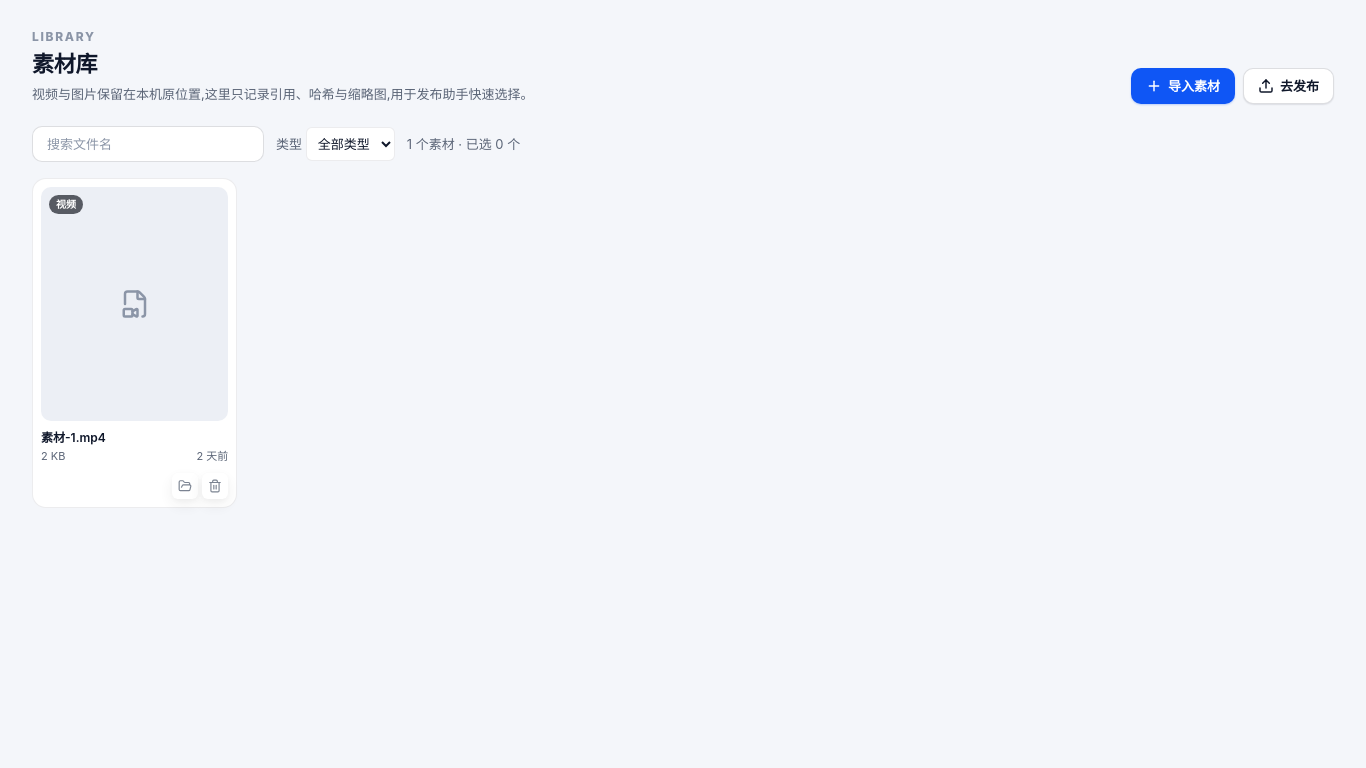
Test case: keeps existing assets when refreshing fails and recovers through the error action
Expected: the text "素材-1.mp4" is shown, [41,430,106,445]
Click the button "导入素材".
click(1183, 86)  # box [1131,68,1235,104]
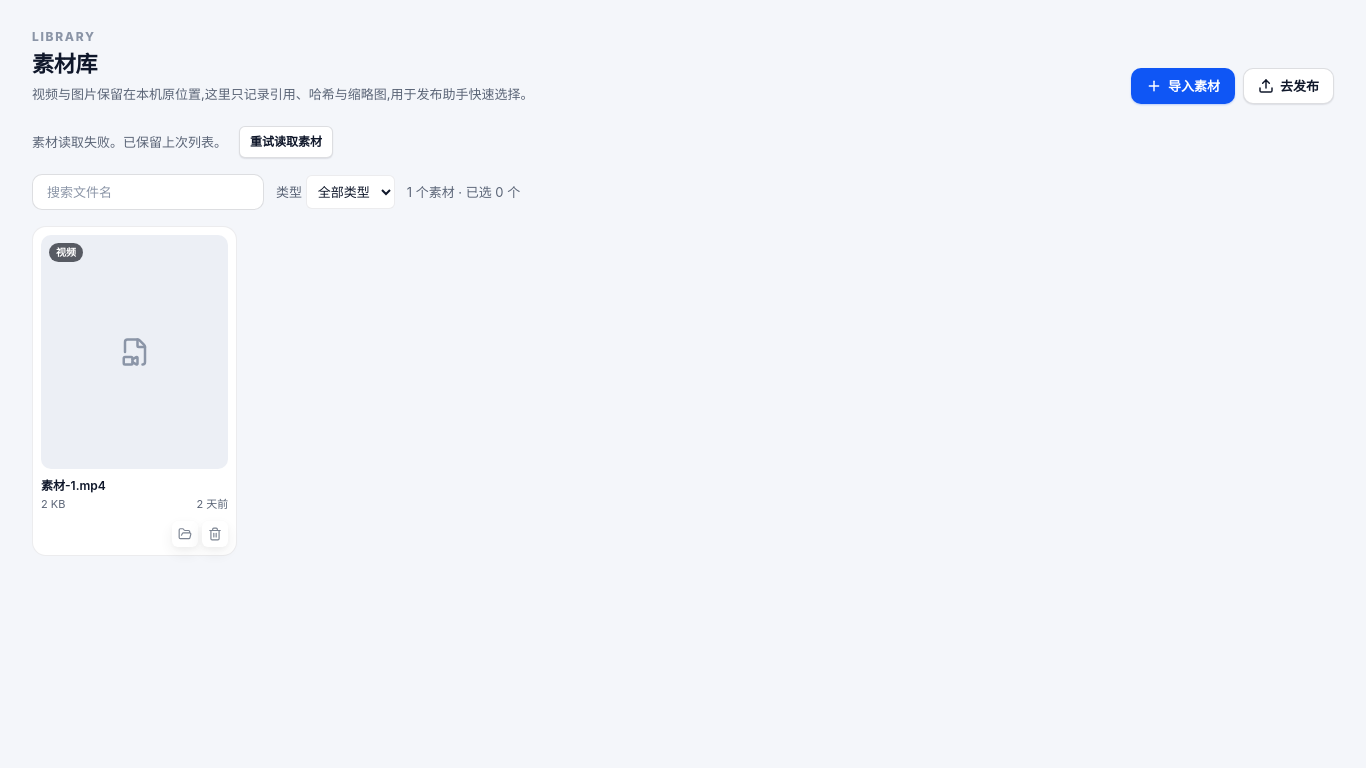
Expected: the text "素材-1.mp4" is shown, [41,478,106,493]
Expected: the message shows "已保留上次列表", [123,134,227,150]
Click the button "重试读取素材".
click(286, 142)  # box [239,126,333,158]
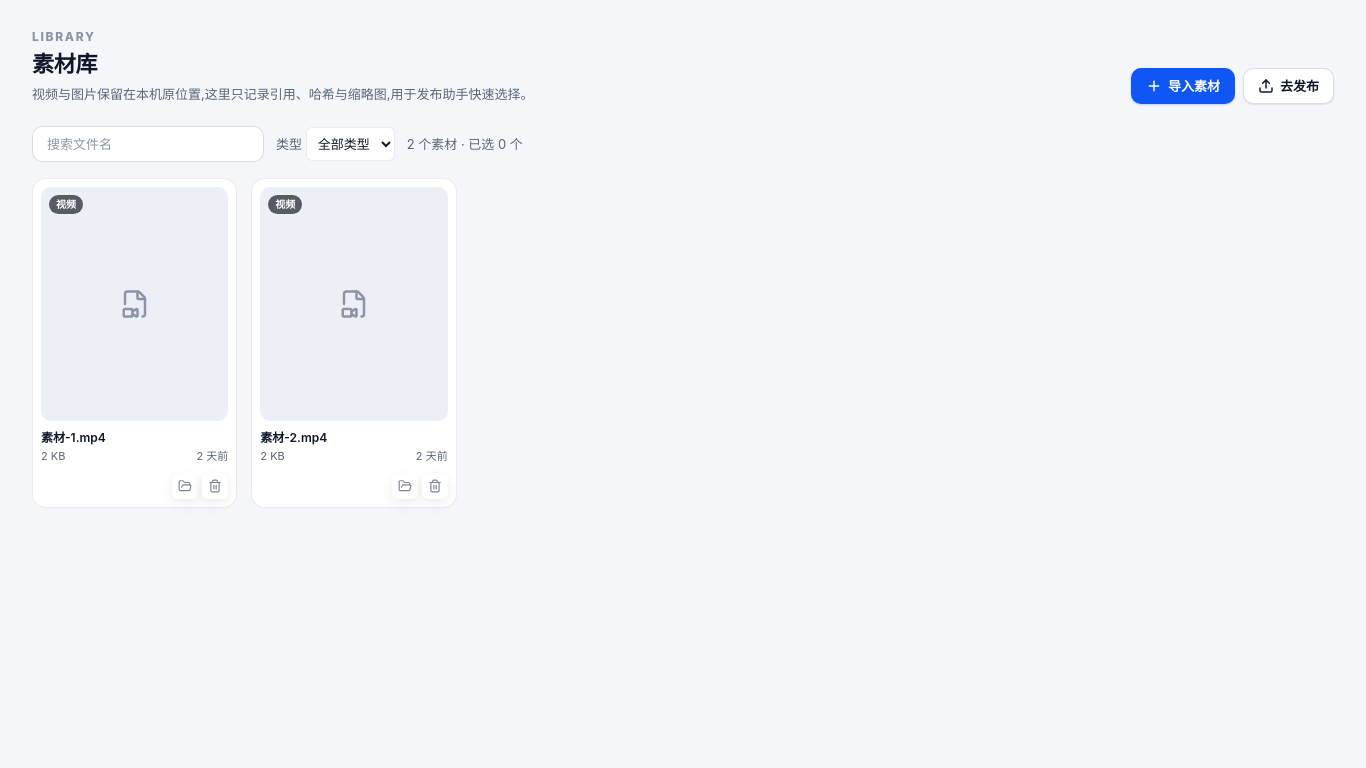
Expected: the text "素材-2.mp4" is shown, [260,430,327,445]
Expected: the message "素材读取失败。已保留上次列表。 重试读取素材" is gone
